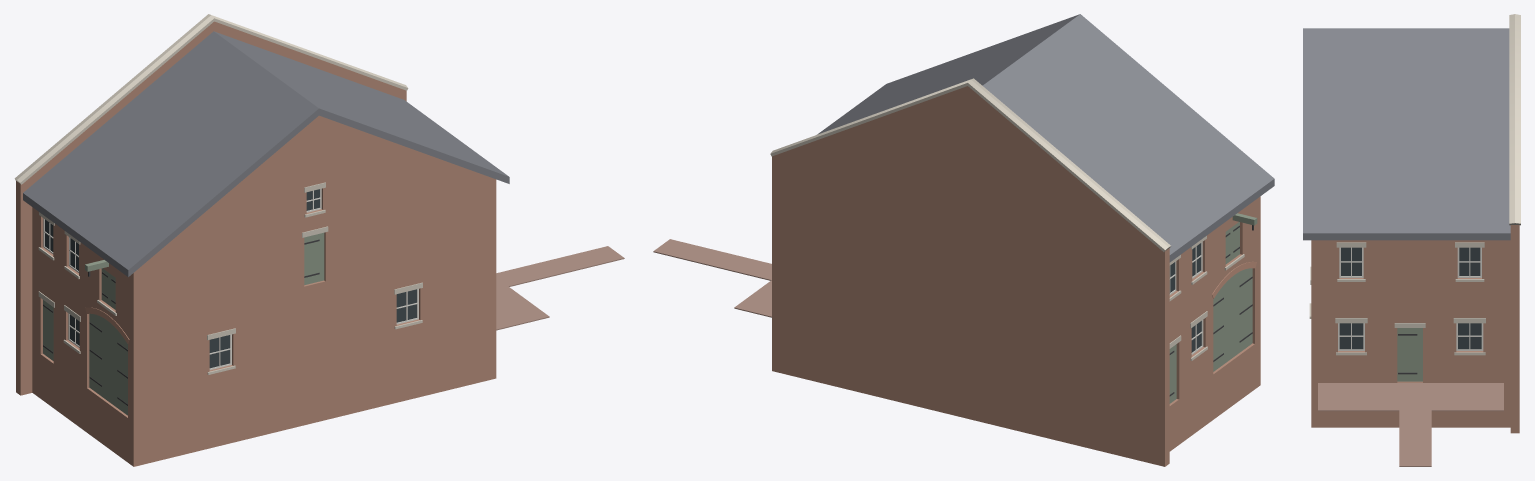
Rendered from house_1736_prairie_coach_house__as_standing_1904.glb.
3 renders of one model, left to right at view 1: azimuth 30°, elevation 25°; view 2: azimuth 150°, elevation 25°; view 3: azimuth 270°, elevation 25°, orthographic. The views are drawn at different scales.
Parts seen in each view (by area): view 1: house_1736_prairie_coach_house__as_standing_1904; view 2: house_1736_prairie_coach_house__as_standing_1904; view 3: house_1736_prairie_coach_house__as_standing_1904.
Boxes of the visible parts, x1,y1,x2,y2 form: house_1736_prairie_coach_house__as_standing_1904: [14, 14, 624, 466]; house_1736_prairie_coach_house__as_standing_1904: [653, 14, 1274, 466]; house_1736_prairie_coach_house__as_standing_1904: [1303, 14, 1520, 466].
Size of the model in its own units: 23.52 by 13.4 by 8.09.
